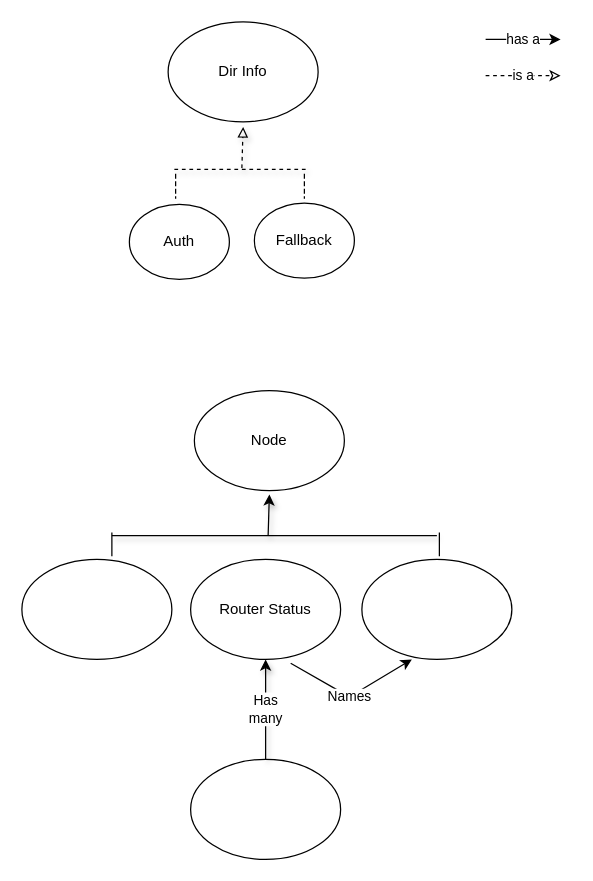
Image size: 593x881. Some labels were removed from this diagram. Each missing label, with the centre of its shape:
Consensus, Network Status (signed): (265,808)
Microdesc: (436,608)
Router Info, what relays publish, server desc.: (96,608)
